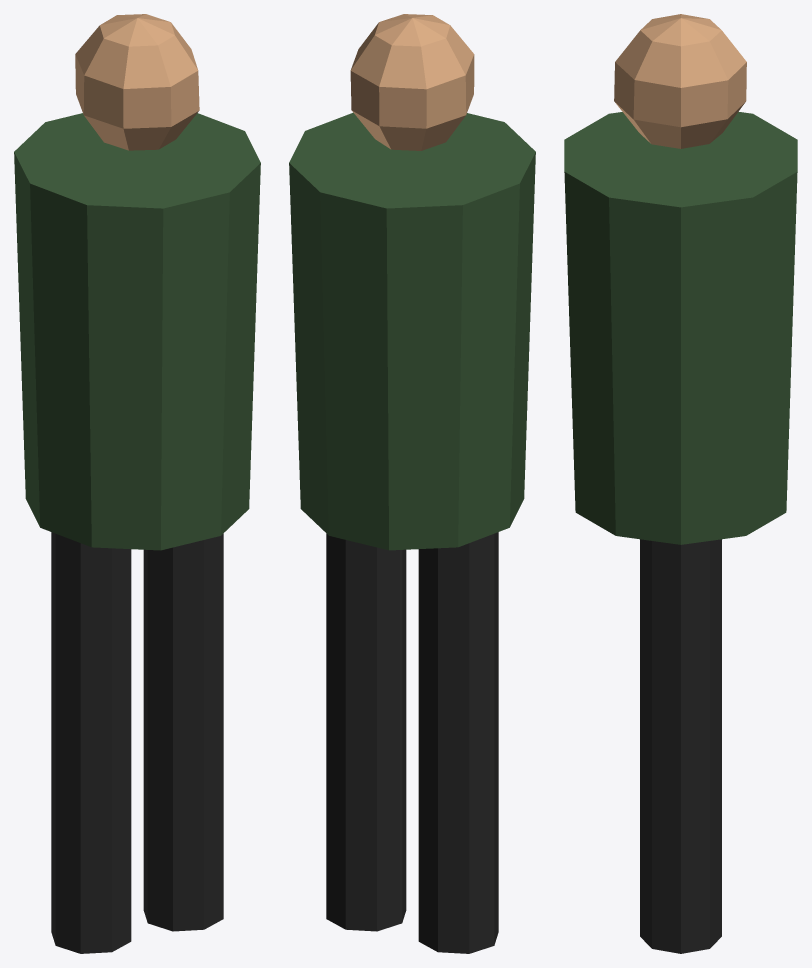
The model's file is Person2.glb.
3 views of the same model, side by side, from view 1: azimuth 30°, elevation 25°; view 2: azimuth 150°, elevation 25°; view 3: azimuth 270°, elevation 25° (orthographic).
Visible parts, largest first — view 1: Person2; view 2: Person2; view 3: Person2.
Part boxes in pixels (x1=…): Person2: x1=14, y1=14, x2=260, y2=953; Person2: x1=289, y1=14, x2=535, y2=953; Person2: x1=564, y1=14, x2=797, y2=953.
Bounding box in the file's own units: 0.42 × 1.7 × 0.3994.
